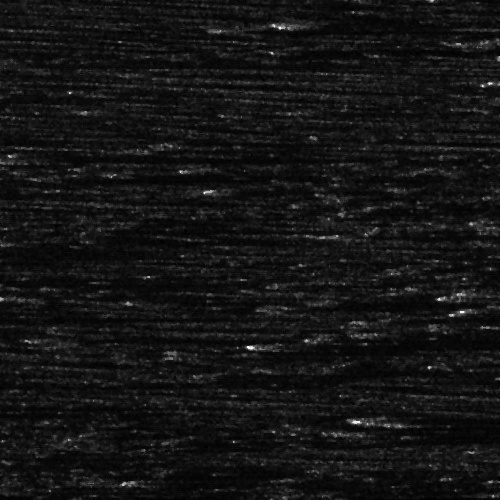object: (7, 330, 112, 345), (328, 413, 421, 424), (273, 17, 346, 30), (105, 474, 210, 483), (24, 173, 117, 182), (0, 148, 74, 159), (241, 340, 324, 349), (0, 56, 52, 67), (207, 186, 260, 195)
shadow: (11, 148, 350, 159), (0, 56, 321, 67), (60, 330, 241, 345), (310, 17, 492, 30), (283, 340, 473, 349), (158, 474, 344, 483), (234, 186, 412, 195), (71, 173, 241, 182), (375, 413, 472, 424), (0, 128, 88, 137), (0, 405, 49, 420), (0, 186, 33, 197)
